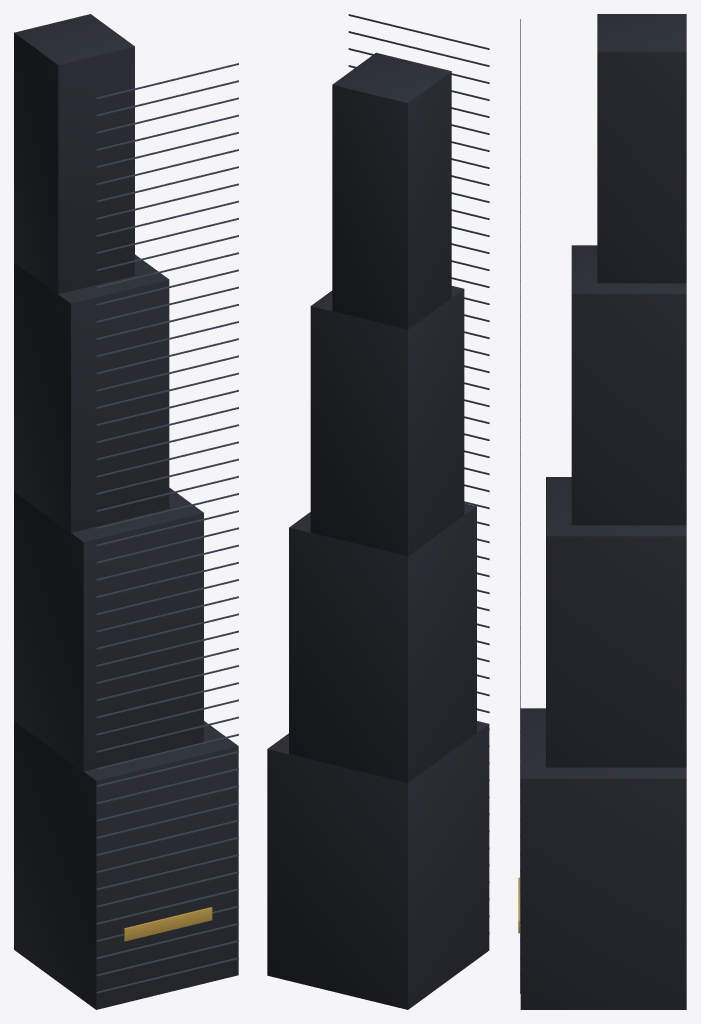
The model's file is marco_trumptower.glb.
The picture shows the model from 3 angles, left to right: view 1: azimuth 30°, elevation 25°; view 2: azimuth 150°, elevation 25°; view 3: azimuth 270°, elevation 25°; orthographic projection. The views are drawn at different scales.
Visible parts, largest first — view 1: marco_trumptower; view 2: marco_trumptower; view 3: marco_trumptower.
Part boxes in pixels (<box>): marco_trumptower: <box>14,14,238,1009</box>; marco_trumptower: <box>267,14,489,1009</box>; marco_trumptower: <box>518,14,686,1009</box>.
Bounding box in the file's own units: 26 × 160 × 26.35.
